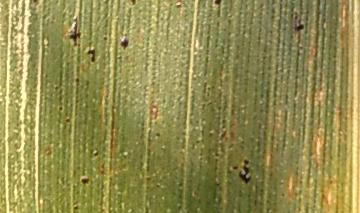tarspot: (67, 17, 82, 51), (239, 155, 254, 189), (84, 46, 100, 64), (292, 18, 308, 34), (117, 33, 132, 50), (91, 146, 101, 161), (79, 174, 90, 187), (70, 203, 84, 213), (72, 72, 81, 86), (212, 1, 224, 11), (57, 102, 66, 115), (101, 34, 111, 44), (153, 130, 162, 139), (230, 163, 239, 172), (130, 1, 139, 9)
